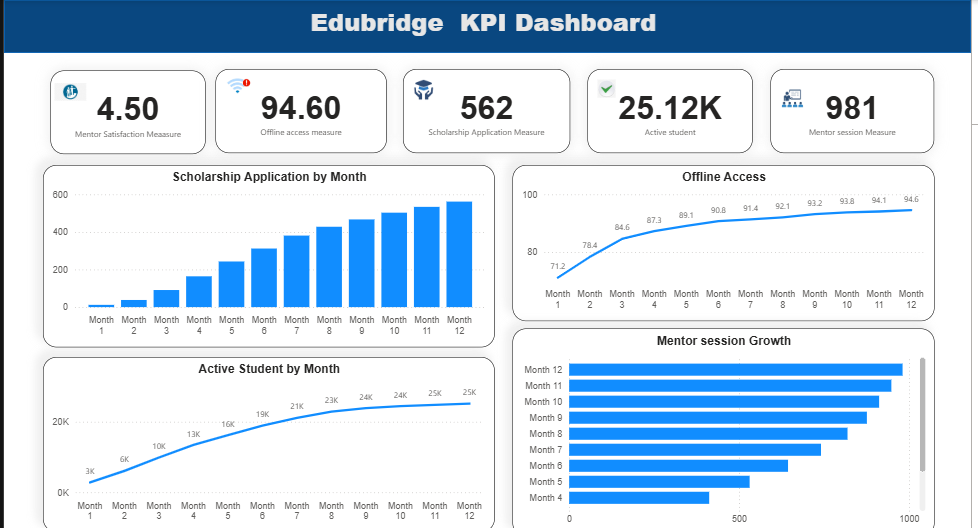

The dashboard page shown, as its layout file describes it:
{"tool":"powerbi","page":{"name":"Page 1","canvas":[1280,720],"ordinal":0},"visuals":[{"type":"shape","box":[0,0,1280,70],"z":0},{"type":"lineChart","title":"Active Student by Month","fields":{"Category":["EDUBRIDGE.MonthS"],"Y":["Sum(EDUBRIDGE.Active Students)"]},"box":[52.2,473.3,597.8,232.2],"z":1000},{"type":"clusteredColumnChart","title":"Scholarship Application by Month","fields":{"Y":["Sum(EDUBRIDGE.Scholarship Apps)"],"Category":["EDUBRIDGE.MonthS"]},"box":[52.2,217.8,597.8,241.1],"z":2000},{"type":"lineChart","title":" Offline Access ","fields":{"Y":["Sum(EDUBRIDGE.Offline Access %)"],"Category":["EDUBRIDGE.MonthS"]},"box":[672.2,217.8,558.9,206.7],"z":3000},{"type":"barChart","title":"Mentor session Growth","fields":{"Category":["EDUBRIDGE.MonthS"],"Y":["Sum(EDUBRIDGE.Mentor Sessions)"]},"box":[672.2,434.4,558.9,275.6],"z":4000},{"type":"card","fields":{"Values":["EDUBRIDGE.Mentor Satisfaction Meaasure"]},"box":[61.3,92.4,205.2,110.9],"z":5000},{"type":"card","fields":{"Values":["EDUBRIDGE.Offline access measure"]},"box":[280,92.2,226.7,111.1],"z":6000},{"type":"card","fields":{"Values":["EDUBRIDGE.Scholarship Application Measure"]},"box":[528.9,92.2,221.1,111.1],"z":7000},{"type":"card","fields":{"Values":["EDUBRIDGE.Active student"]},"box":[773.3,92.2,218.9,111.1],"z":8000},{"type":"card","fields":{"Values":["EDUBRIDGE.Mentor session Measure"]},"box":[1014.4,92.2,216.7,111.1],"z":9000},{"type":"image","box":[287.8,92.2,45.6,42.2],"z":10000},{"type":"image","box":[531.1,96.7,50,42.2],"z":11000},{"type":"image","box":[61.1,95.6,52.2,52.2],"z":12000},{"type":"image","box":[781.1,95.6,34.4,43.3],"z":13000},{"type":"image","box":[1014.4,103.3,57.8,53.3],"z":14000},{"type":"textbox","box":[187.8,0,892.2,70],"z":15000}]}

Visuals, with their boxes on the page's 1280x720 design canvas (x1, y1, x2, y2). These are canvas units, not pixel positions in the 978x528 screenshot, which may show the page scaled, cropped or inside an application window:
shape: select_region(0, 0, 1280, 70)
"Active Student by Month" lineChart: select_region(52, 473, 650, 706)
"Scholarship Application by Month" clusteredColumnChart: select_region(52, 218, 650, 459)
" Offline Access " lineChart: select_region(672, 218, 1231, 424)
"Mentor session Growth" barChart: select_region(672, 434, 1231, 710)
card - EDUBRIDGE.Mentor Satisfaction Meaasure: select_region(61, 92, 266, 203)
card - EDUBRIDGE.Offline access measure: select_region(280, 92, 507, 203)
card - EDUBRIDGE.Scholarship Application Measure: select_region(529, 92, 750, 203)
card - EDUBRIDGE.Active student: select_region(773, 92, 992, 203)
card - EDUBRIDGE.Mentor session Measure: select_region(1014, 92, 1231, 203)
image: select_region(288, 92, 333, 134)
image: select_region(531, 97, 581, 139)
image: select_region(61, 96, 113, 148)
image: select_region(781, 96, 816, 139)
image: select_region(1014, 103, 1072, 157)
textbox: select_region(188, 0, 1080, 70)
